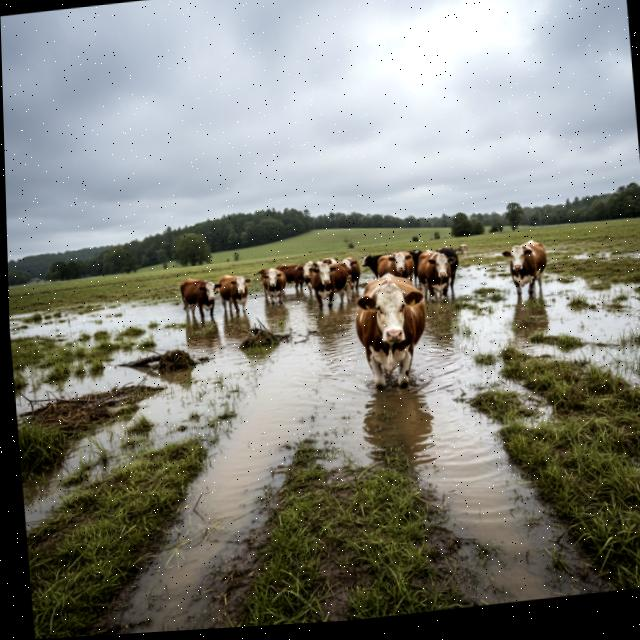cow: (348, 275, 439, 401), (500, 237, 558, 303), (174, 272, 226, 332), (212, 268, 258, 325), (304, 262, 353, 313), (271, 256, 320, 303), (255, 262, 295, 307), (418, 250, 451, 304), (376, 248, 415, 290), (435, 245, 461, 296), (357, 251, 395, 285), (337, 254, 365, 295), (407, 246, 428, 288)
